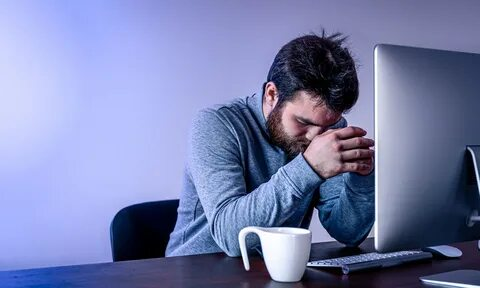sleep: (166, 33, 377, 255)
